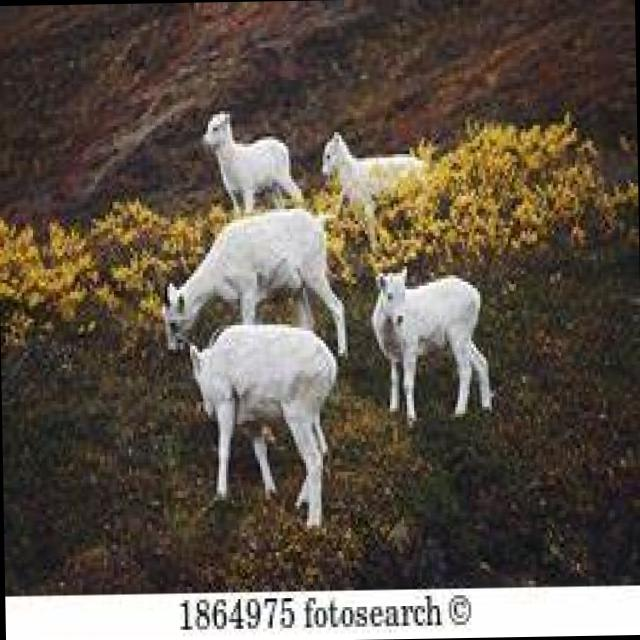sheep: (174, 320, 338, 530), (158, 204, 348, 359), (368, 264, 494, 428), (319, 127, 428, 250), (200, 106, 304, 213)
